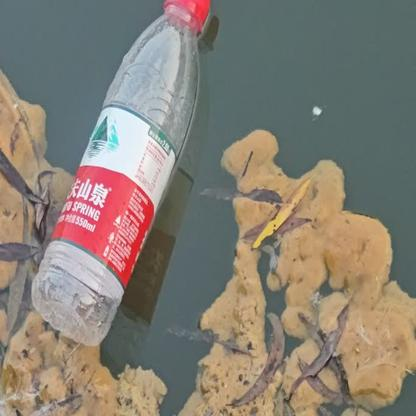plastic bottle: (32, 1, 213, 345)
